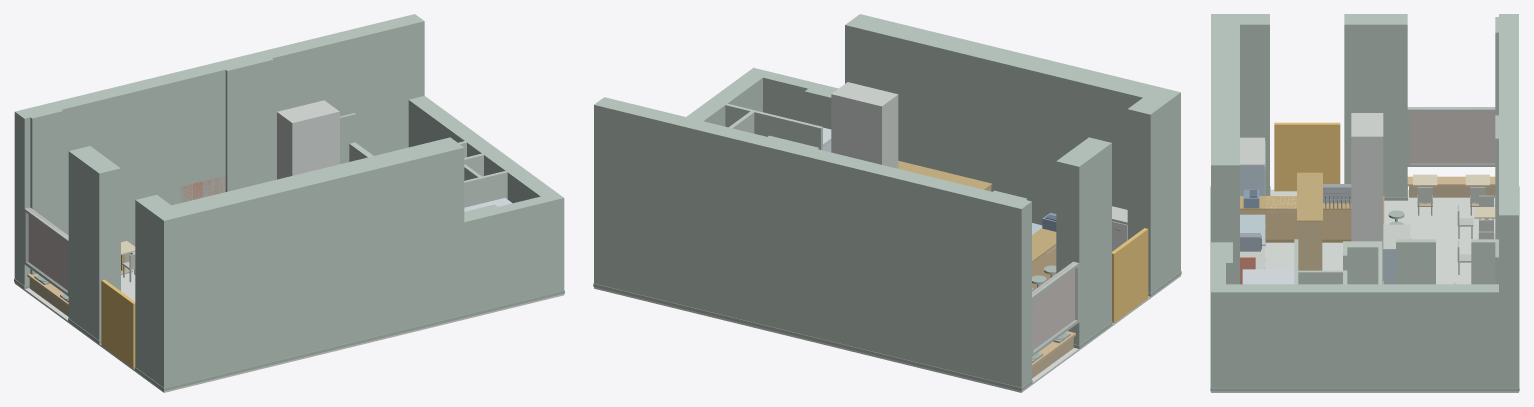
File: BAR05_v26.glb
The picture shows the model from 3 angles, left to right: view 1: azimuth 30°, elevation 25°; view 2: azimuth 150°, elevation 25°; view 3: azimuth 270°, elevation 25°; orthographic projection. The views are drawn at different scales.
Visible parts, largest first — view 1: Стена нижняя, Стена верхняя, Стена левая глухая 1, Пилон верх 2, Стена правая, Стена нижняя уступ 2, Стена нижняя уступ 1, Колонна · 1610×910, Пилон верх 1, Стена левая глухая 2, Входное полотно 1880, Окно · стекло (+5 smaller); view 2: Стена верхняя, Стена нижняя, Стена левая глухая 1, Стена левая глухая 2, Колонна · 1610×910, Входное полотно 1880, Окно · стекло, Окно · створка, Стена правая, Перегородка нижняя, Стена нижняя уступ 2, Плинтус (+5 smaller); view 3: Стена правая, Стена левая глухая 1, Стена верхняя, Стена нижняя, Пол, Окно · стекло, Окно · створка, Колонна · 1610×910, Входное полотно 1880, Стена левая глухая 2, Г-стойка, плечо Б · 800×4085, Перегородка 2 (+28 smaller).
Boxes of the visible parts, box(x1,y1,x2,y2) form: Стена нижняя: box(150, 137, 464, 387); Стена верхняя: box(14, 14, 424, 285); Стена левая глухая 1: box(68, 146, 120, 340); Пилон верх 2: box(217, 51, 273, 191); Стена правая: box(408, 96, 564, 294); Стена нижняя уступ 2: box(499, 196, 547, 304); Стена нижняя уступ 1: box(464, 204, 505, 314); Колонна · 1610×910: box(277, 100, 339, 179); Пилон верх 1: box(26, 107, 62, 274); Стена левая глухая 2: box(135, 195, 170, 377); Входное полотно 1880: box(101, 279, 135, 368); Окно · стекло: box(25, 209, 68, 292); Стена верхняя: box(594, 97, 1031, 387); Стена нижняя: box(845, 14, 1180, 281); Стена левая глухая 1: box(1056, 137, 1111, 345); Стена левая глухая 2: box(1127, 98, 1165, 293); Колонна · 1610×910: box(831, 82, 898, 168); Входное полотно 1880: box(1112, 228, 1148, 322); Окно · стекло: box(1032, 262, 1078, 352); Окно · створка: box(1032, 262, 1074, 349); Стена правая: box(594, 67, 769, 284); Перегородка нижняя: box(725, 103, 822, 150); Стена нижняя уступ 2: box(763, 72, 815, 122); Плинтус: box(593, 283, 1032, 391); Стена правая: box(1211, 284, 1518, 387); Стена левая глухая 1: box(1344, 14, 1407, 197); Стена верхняя: box(1499, 14, 1518, 387); Стена нижняя: box(1211, 14, 1239, 284); Пол: box(1211, 189, 1518, 392); Окно · стекло: box(1408, 107, 1494, 163); Окно · створка: box(1410, 108, 1495, 163); Колонна · 1610×910: box(1351, 113, 1383, 283); Входное полотно 1880: box(1274, 122, 1340, 191); Стена левая глухая 2: box(1240, 14, 1269, 195); Г-стойка, плечо Б · 800×4085: box(1240, 210, 1351, 239); Перегородка 2: box(1396, 239, 1435, 284).
Size of the model in its own units: 13.61 by 5.58 by 8.81.
